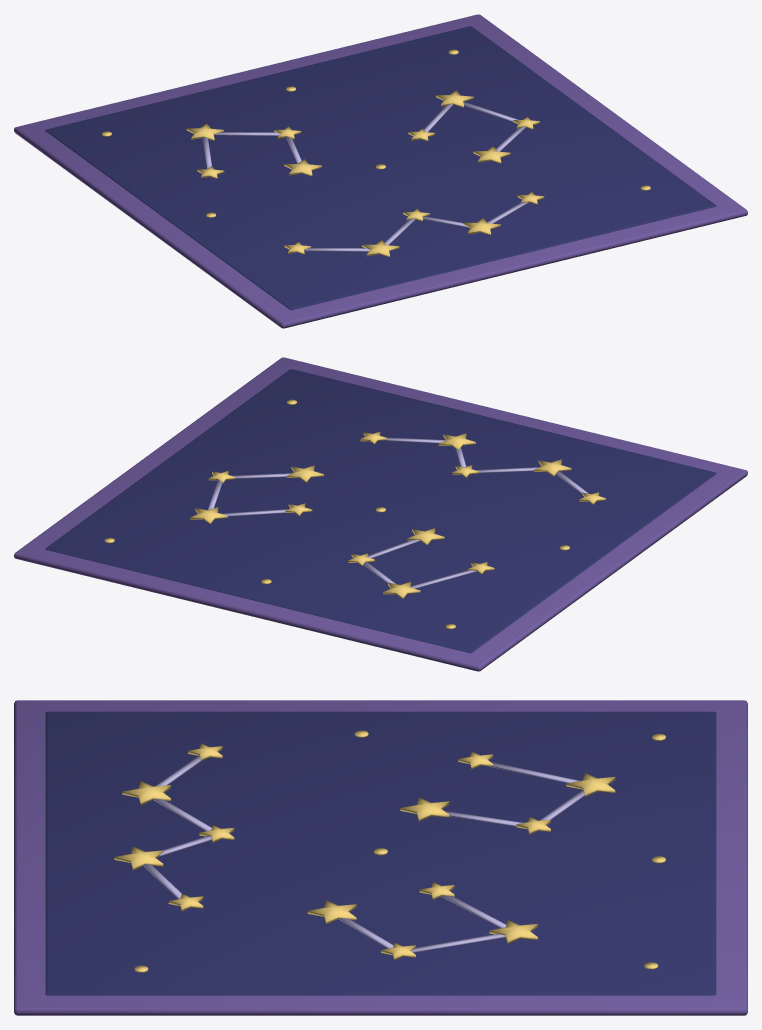
File: star-rug.glb
3 views of the same model, one above another, from view 1: azimuth 30°, elevation 25°; view 2: azimuth 150°, elevation 25°; view 3: azimuth 270°, elevation 25° (orthographic). The views are drawn at different scales.
Visible parts, largest first — view 1: rug; view 2: rug; view 3: rug.
Boxes of the visible parts, <box> form: rug: <box>14,14,747,328</box>; rug: <box>14,357,747,671</box>; rug: <box>14,700,747,1015</box>.
Size of the model in its own units: 1.9 by 0.0485 by 1.9.
